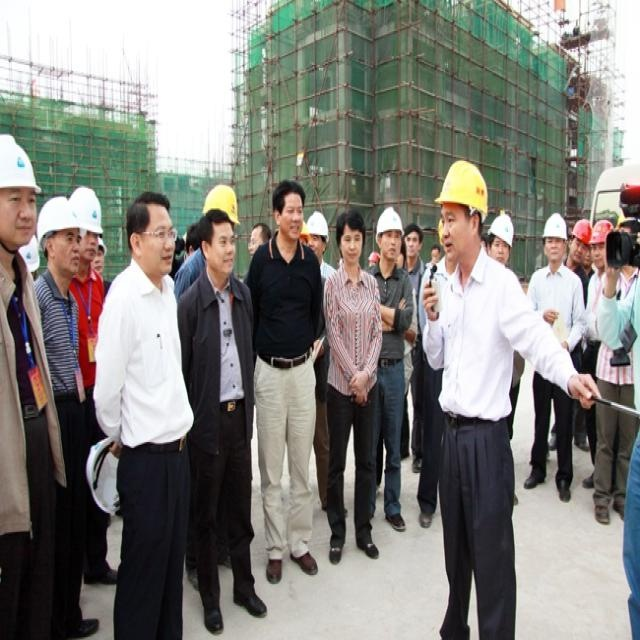Con_Casco: (434, 163, 490, 252), (376, 206, 403, 261)
Sin_Casco_Mascarrilla: (272, 182, 308, 240), (334, 210, 365, 266)
